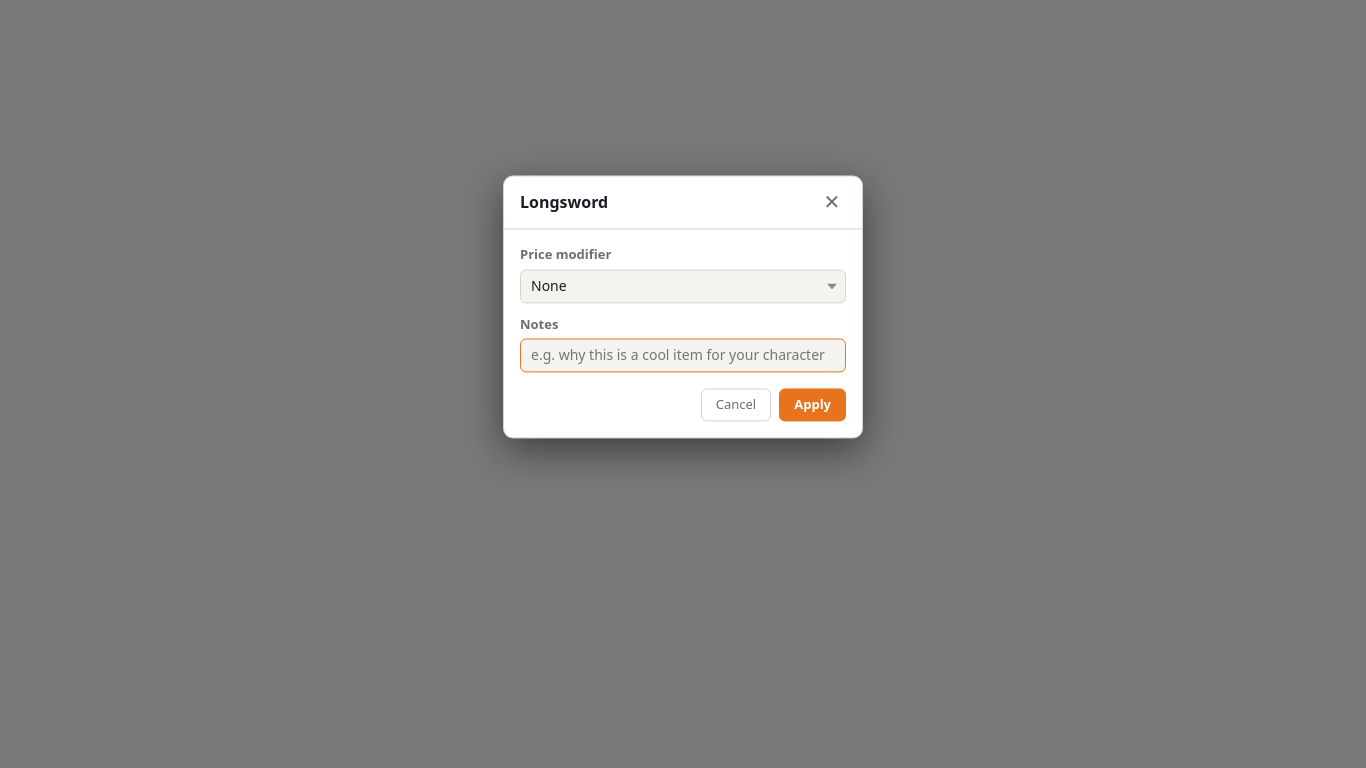
Test case: ItemSettingsModal › shows a preview of the discounted price
This screenshot has width=1366, height=768.
Select "Custom (gp)" in the dropdown labelled "Price modifier" at (683, 286), box [520,269,846,303]
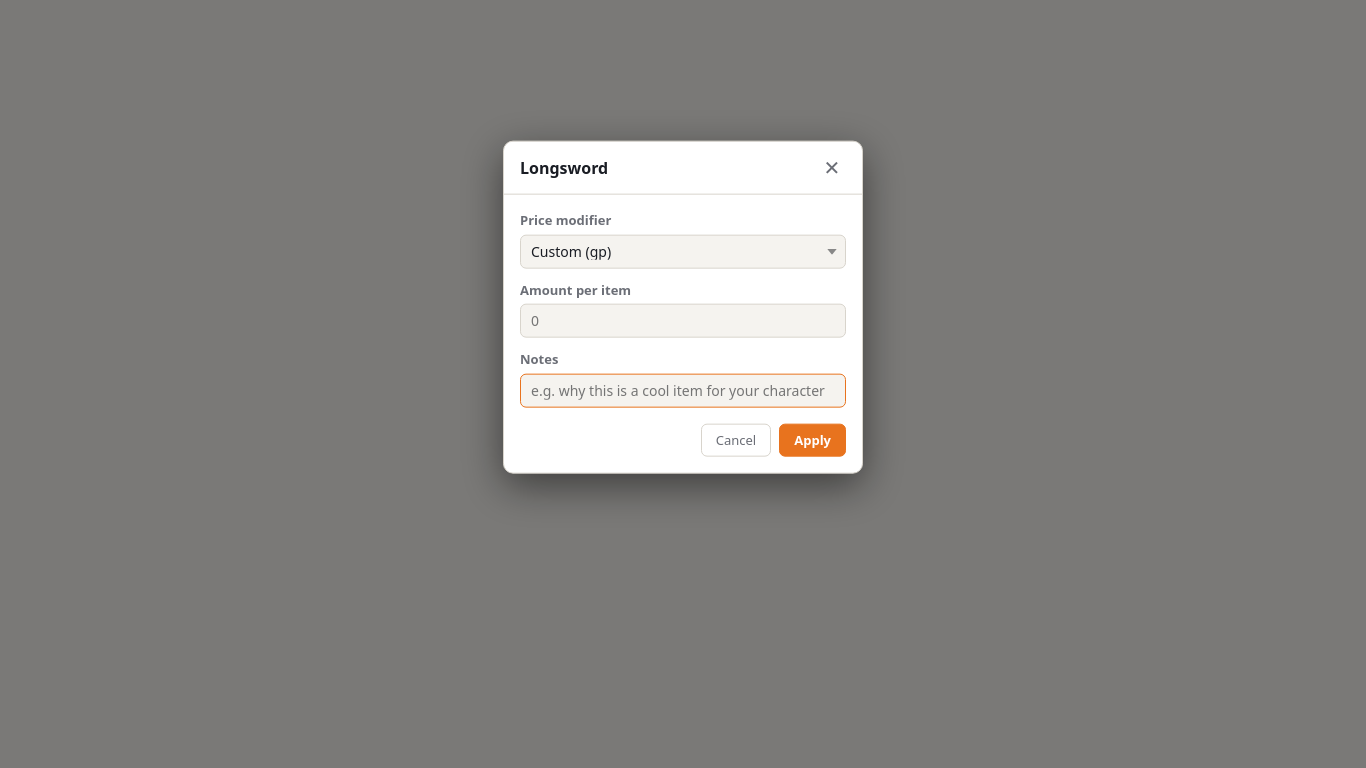
Type "3" into the number field labelled "Amount per item".
click(683, 321); type("3")  # box [520,304,846,338]
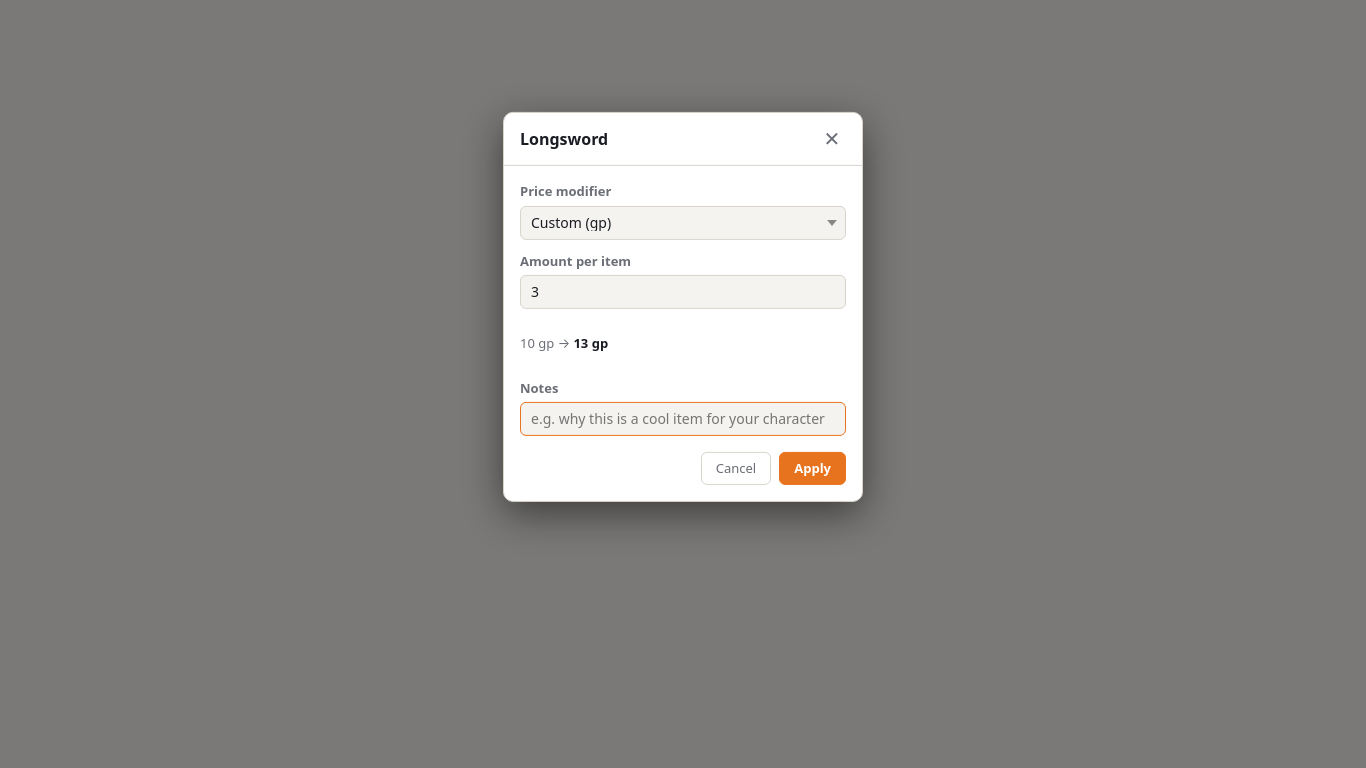
Check: the text "10 gp → 13 gp" is shown, box [520,334,608,352]
